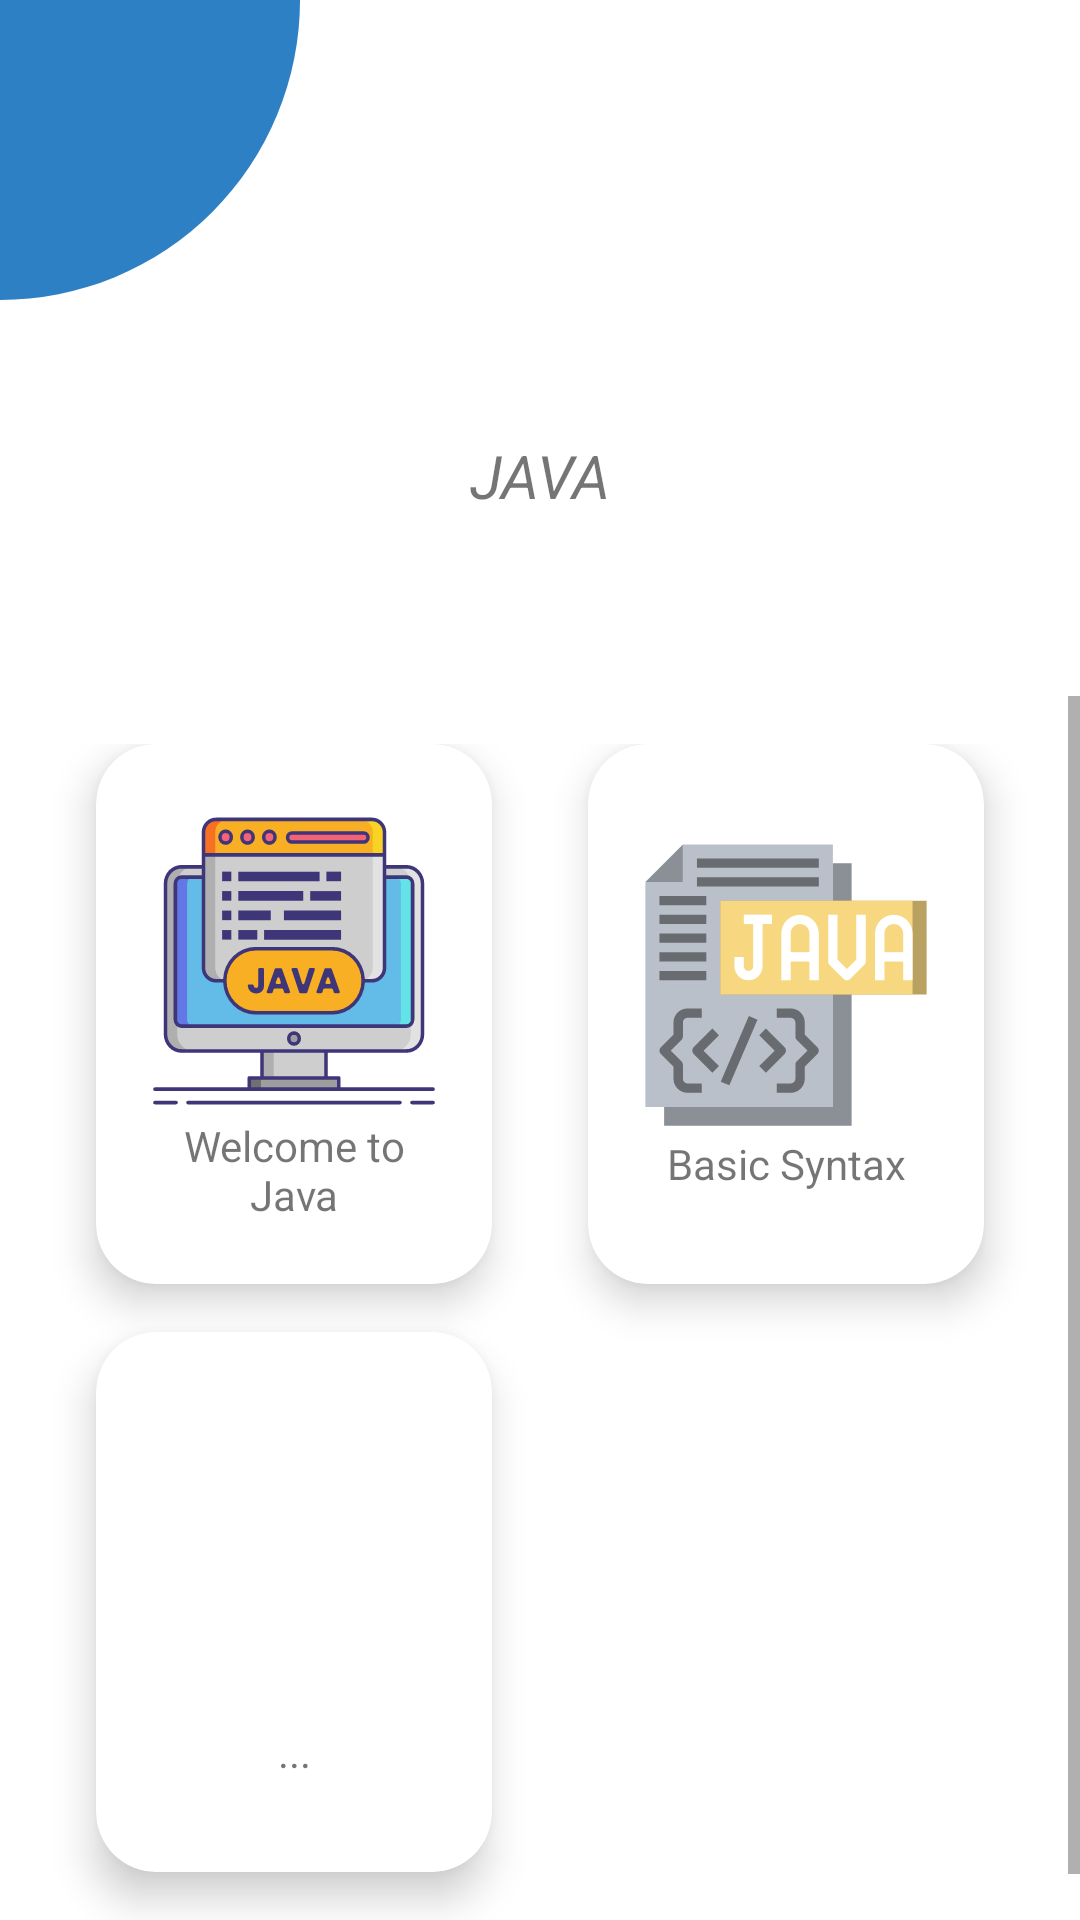

Named icons in this screenshot (1080x1920) and their bounding boxes, (x1, y1, x2, y2):
sinjava: (645, 844, 927, 1126)
